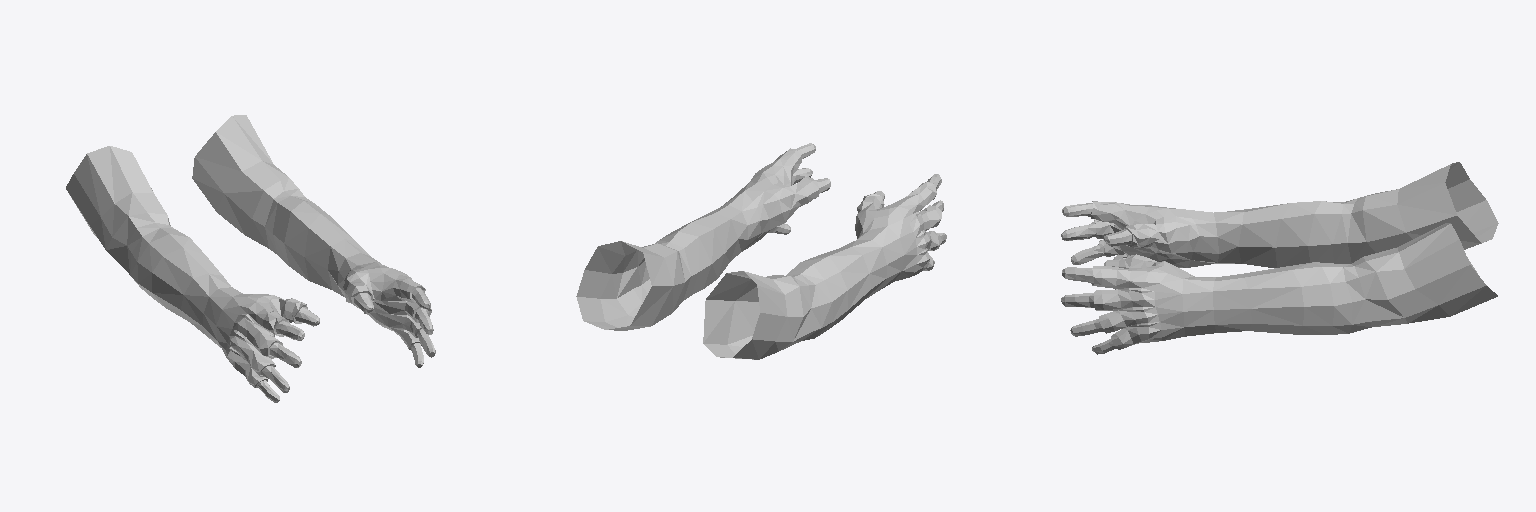
The model's file is arm.obj.
3 renders of one model, left to right at view 1: azimuth 30°, elevation 25°; view 2: azimuth 150°, elevation 25°; view 3: azimuth 270°, elevation 25°, orthographic.
Visible parts, largest first — view 1: ARM_R, ARM_L; view 2: ARM_R, ARM_L; view 3: ARM_L, ARM_R.
Part boxes in pixels (x1,y1,x2,y2): ARM_R: (66,146,319,402); ARM_L: (192,115,435,367); ARM_R: (703,174,946,359); ARM_L: (576,143,830,330); ARM_L: (1061,223,1497,354); ARM_R: (1061,162,1498,267).
Bounding box in the file's own units: 9.39 × 5.96 × 18.85.